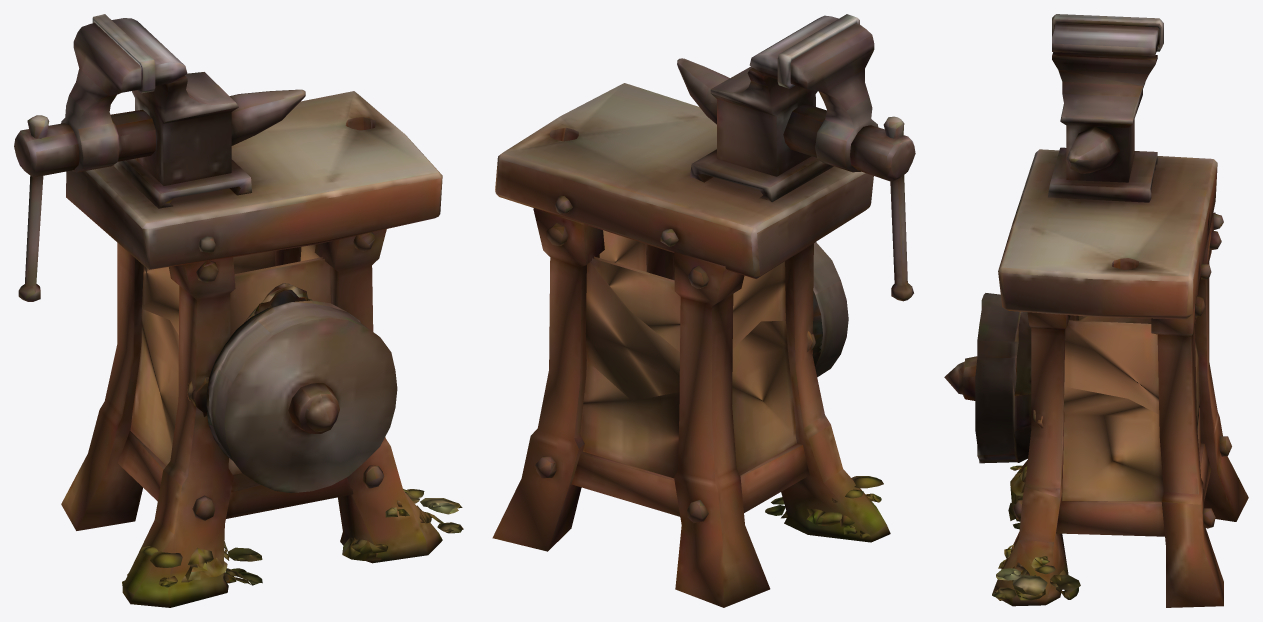
The model's file is wyn_furn_home_toolworks.glb.
3 renders of one model, left to right at view 1: azimuth 30°, elevation 25°; view 2: azimuth 150°, elevation 25°; view 3: azimuth 270°, elevation 25°, orthographic. The views are drawn at different scales.
Visible parts, largest first — view 1: tripo_node_f7d693bd-88d2-44eb-b4d1-4cbef60c75e6; view 2: tripo_node_f7d693bd-88d2-44eb-b4d1-4cbef60c75e6; view 3: tripo_node_f7d693bd-88d2-44eb-b4d1-4cbef60c75e6.
Part boxes in pixels (left/top/right/bottom): tripo_node_f7d693bd-88d2-44eb-b4d1-4cbef60c75e6: left=14, top=14, right=463, bottom=607; tripo_node_f7d693bd-88d2-44eb-b4d1-4cbef60c75e6: left=492, top=14, right=915, bottom=607; tripo_node_f7d693bd-88d2-44eb-b4d1-4cbef60c75e6: left=944, top=14, right=1248, bottom=607.
Bounding box in the file's own units: 0.9275 × 1.2 × 0.7028.
Materials: 1 (1 with a texture image).
